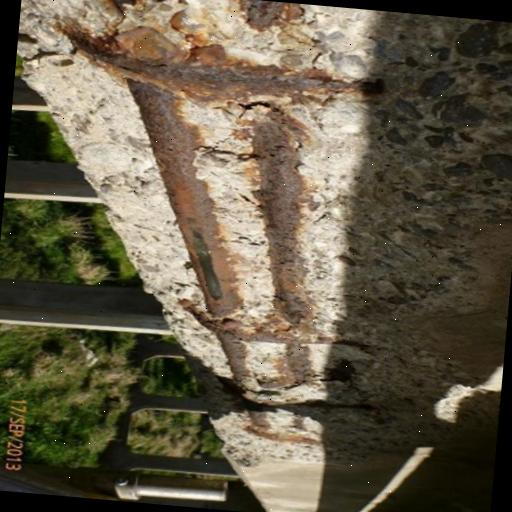spalling: (33, 0, 512, 460)
